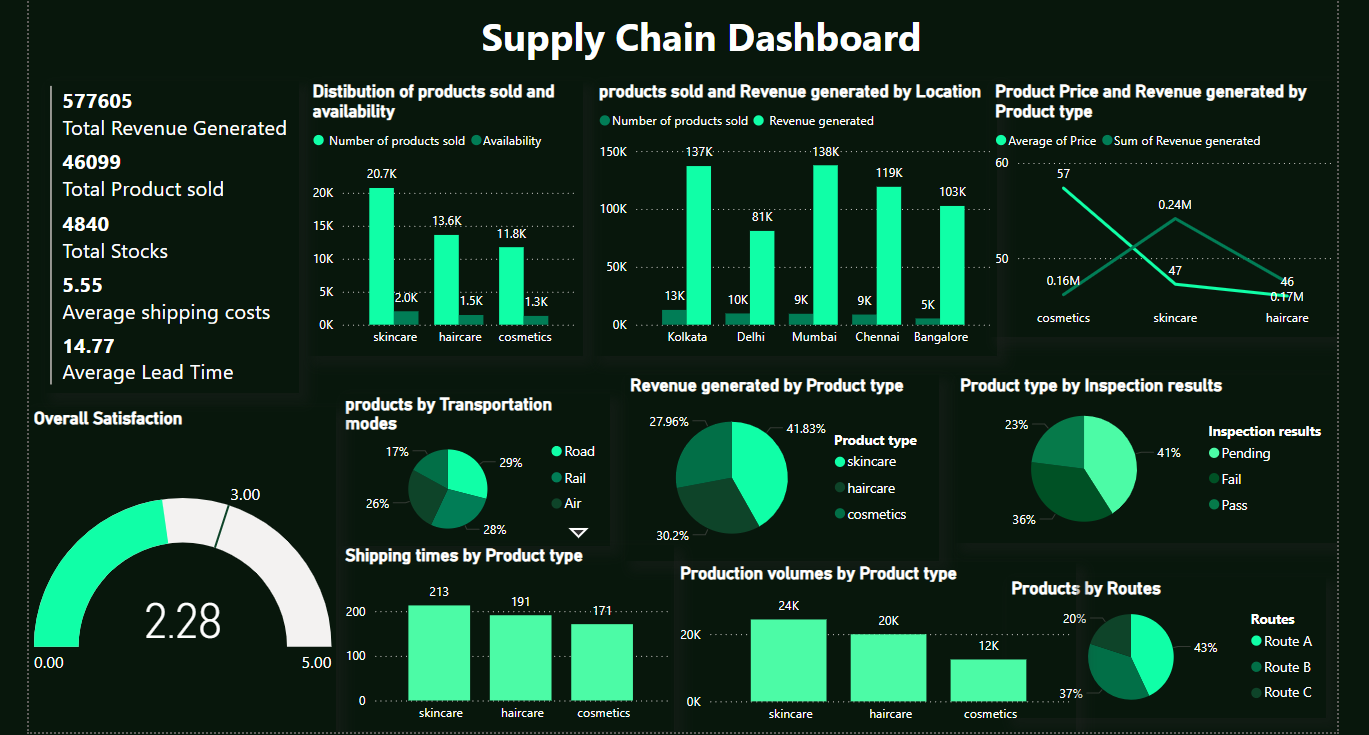

The dashboard page shown, as its layout file describes it:
{"tool":"powerbi","page":{"name":"Page 1","canvas":[1280,720],"ordinal":0},"visuals":[{"type":"multiRowCard","fields":{"Values":["supply_chain_data.Total Revenue Generated","supply_chain_data.Total Product sold","supply_chain_data.Total Stocks","supply_chain_data.Average shipping costs","supply_chain_data.Average Lead Time"]},"box":[16.3,82.6,247.7,305.8],"z":0},{"type":"clusteredColumnChart","title":"Distibution of products sold and availability","fields":{"Category":["supply_chain_data.Product type"],"Y":["Sum(supply_chain_data.Number of products sold)","Sum(supply_chain_data.Availability)"]},"box":[273.3,82.6,268.6,268.6],"z":1000},{"type":"clusteredColumnChart","title":" products sold and  Revenue generated by Location","fields":{"Category":["supply_chain_data.Location"],"Y":["Sum(supply_chain_data.Number of products sold)","Sum(supply_chain_data.Revenue generated)"]},"box":[552.3,82.6,394.2,268.6],"z":2000},{"type":"pieChart","title":"products by Transportation modes","fields":{"Y":["CountNonNull(supply_chain_data.SKU)"],"Category":["supply_chain_data.Transportation modes"]},"box":[304.7,388.4,264,148.8],"z":3000},{"type":"pieChart","title":" Revenue generated by Product type","fields":{"Category":["supply_chain_data.Product type"],"Y":["Sum(supply_chain_data.Revenue generated)"]},"box":[583.7,370.9,307,182.6],"z":4000},{"type":"pieChart","title":"Products by Routes","fields":{"Y":["CountNonNull(supply_chain_data.SKU)"],"Category":["supply_chain_data.Routes"]},"box":[955.8,568.6,312.8,137.2],"z":5000},{"type":"gauge","title":"Overall Satisfaction","fields":{"Y":["Avg(supply_chain_data.Defect rates)"],"MinValue":["supply_chain_data.Minimum value"],"MaxValue":["supply_chain_data.maximun Value"],"TargetValue":["supply_chain_data.Target value"]},"box":[0,402.3,301.2,317.4],"z":6000},{"type":"lineChart","title":"Product Price and Revenue generated by Product type","fields":{"Category":["supply_chain_data.Product type"],"Y":["Avg(supply_chain_data.Price)"],"Y2":["Sum(supply_chain_data.Revenue generated)"]},"box":[940.7,82.6,339.5,250],"z":7000},{"type":"columnChart","title":"Shipping times by Product type","fields":{"Category":["supply_chain_data.Product type"],"Y":["Sum(supply_chain_data.Shipping times)"]},"box":[304.7,537.2,326.7,182.6],"z":8000},{"type":"clusteredColumnChart","title":"Production volumes by Product type","fields":{"Category":["supply_chain_data.Product type"],"Y":["Sum(supply_chain_data.Production volumes)"]},"box":[632.6,553.5,391.9,166.3],"z":9000},{"type":"pieChart","title":"Product type by Inspection results","fields":{"Category":["supply_chain_data.Inspection results"],"Y":["CountNonNull(supply_chain_data.Product type)"]},"box":[905.8,370.9,374.4,165.1],"z":10000},{"type":"textbox","box":[437.2,8.1,453.5,74.4],"z":11000}]}

Visuals, with their boxes on the page's 1280x720 design canvas (x1, y1, x2, y2). These are canvas units, not pixel positions in the 1369x735 screenshot, which may show the page scaled, cropped or inside an application window:
multiRowCard - supply_chain_data.Total Revenue Generated x supply_chain_data.Total Product sold: x1=16 y1=83 x2=264 y2=388
"Distibution of products sold and availability" clusteredColumnChart: x1=273 y1=83 x2=542 y2=351
" products sold and  Revenue generated by Location" clusteredColumnChart: x1=552 y1=83 x2=946 y2=351
"products by Transportation modes" pieChart: x1=305 y1=388 x2=569 y2=537
" Revenue generated by Product type" pieChart: x1=584 y1=371 x2=891 y2=554
"Products by Routes" pieChart: x1=956 y1=569 x2=1269 y2=706
"Overall Satisfaction" gauge: x1=0 y1=402 x2=301 y2=720
"Product Price and Revenue generated by Product type" lineChart: x1=941 y1=83 x2=1280 y2=333
"Shipping times by Product type" columnChart: x1=305 y1=537 x2=631 y2=720
"Production volumes by Product type" clusteredColumnChart: x1=633 y1=554 x2=1024 y2=720
"Product type by Inspection results" pieChart: x1=906 y1=371 x2=1280 y2=536
textbox: x1=437 y1=8 x2=891 y2=82
